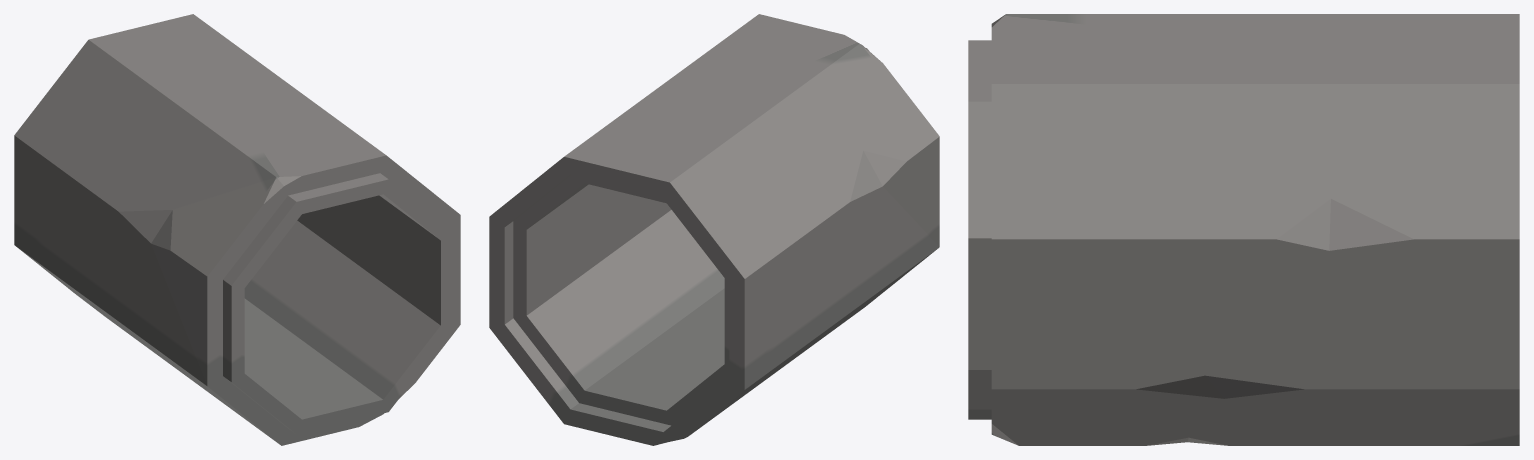
Rendered from SM_Prop_Pipe_Concrete_Large_02.fbx.
3 views of the same model, side by side, from view 1: azimuth 30°, elevation 25°; view 2: azimuth 150°, elevation 25°; view 3: azimuth 270°, elevation 25° (orthographic). The views are drawn at different scales.
Visible parts, largest first — view 1: SM_Prop_Pipe_Concrete_Large_02; view 2: SM_Prop_Pipe_Concrete_Large_02; view 3: SM_Prop_Pipe_Concrete_Large_02.
Part boxes in pixels (x1,y1,x2,y2): SM_Prop_Pipe_Concrete_Large_02: (14, 14, 460, 445); SM_Prop_Pipe_Concrete_Large_02: (489, 14, 939, 445); SM_Prop_Pipe_Concrete_Large_02: (968, 14, 1519, 445).
Bounding box in the file's own units: 114 × 114 × 157.
